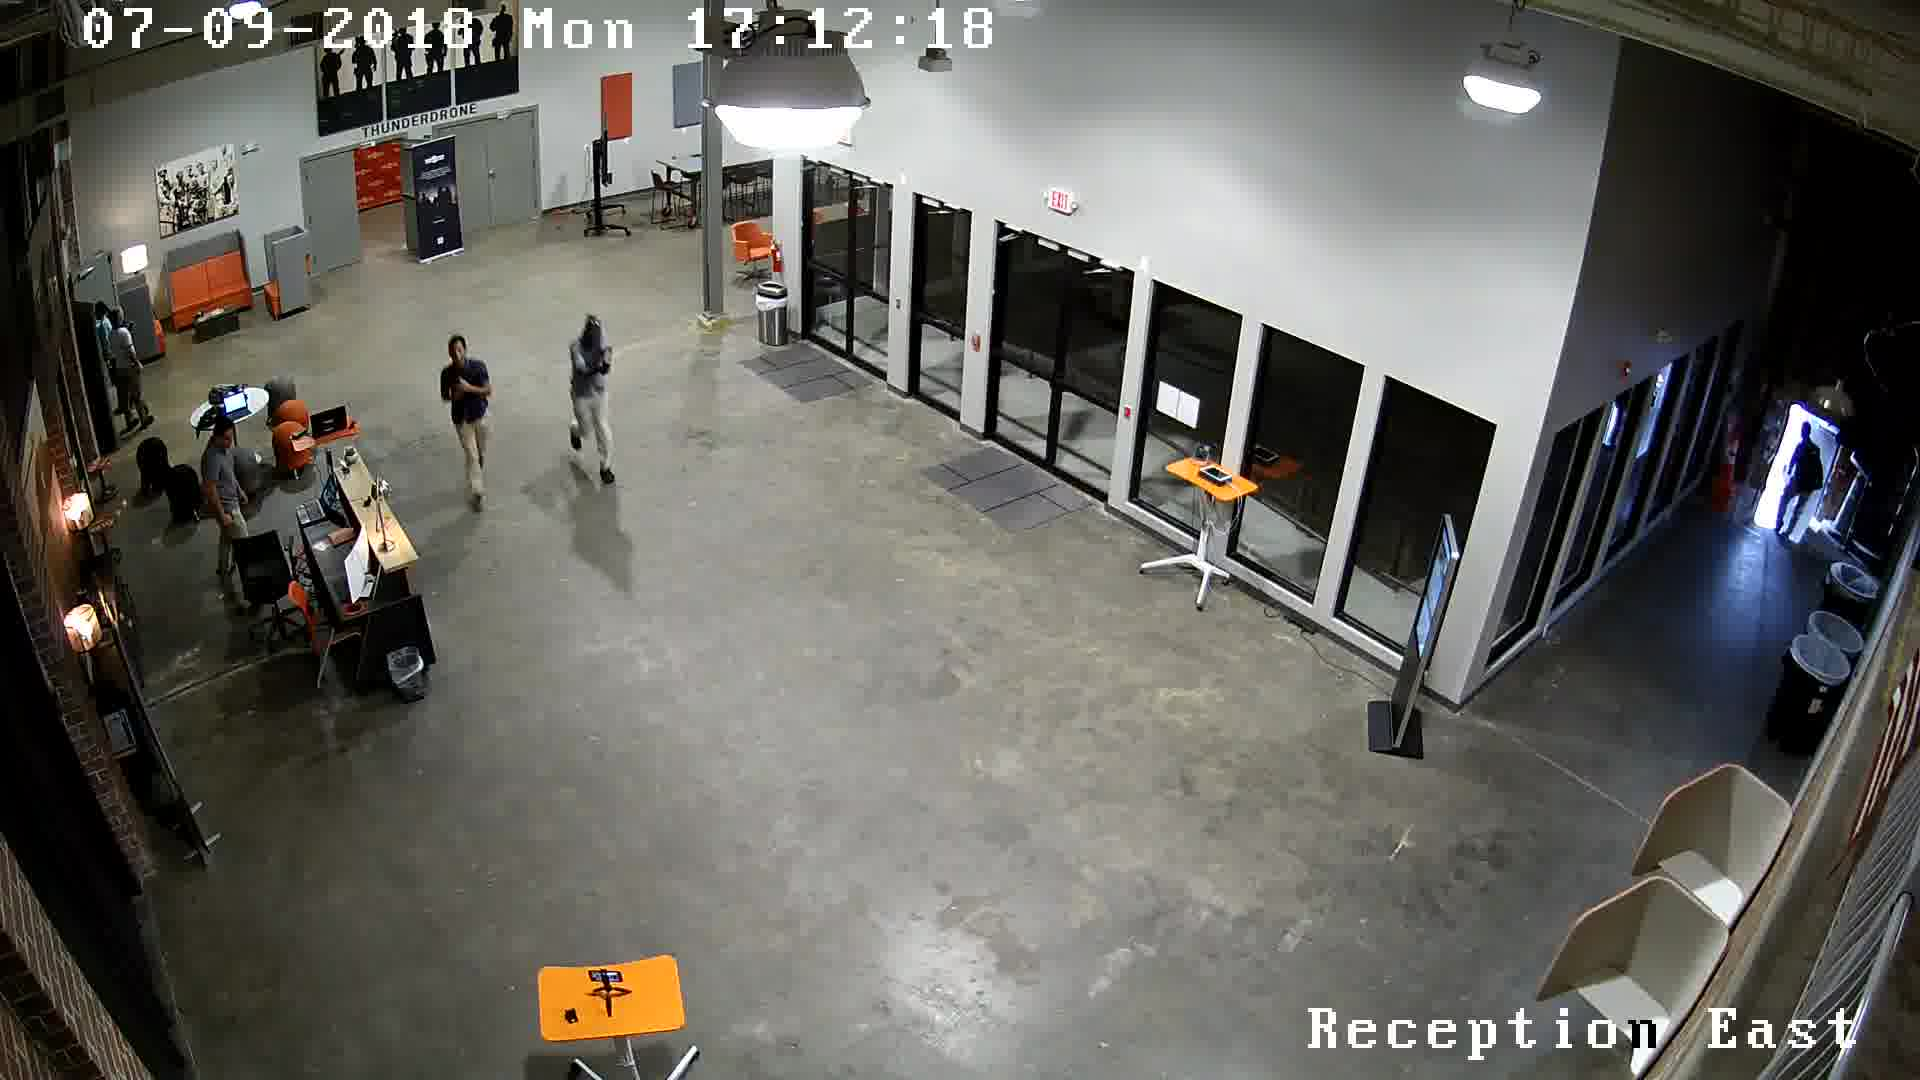pistol: (440, 372, 476, 401), (588, 355, 618, 386)
